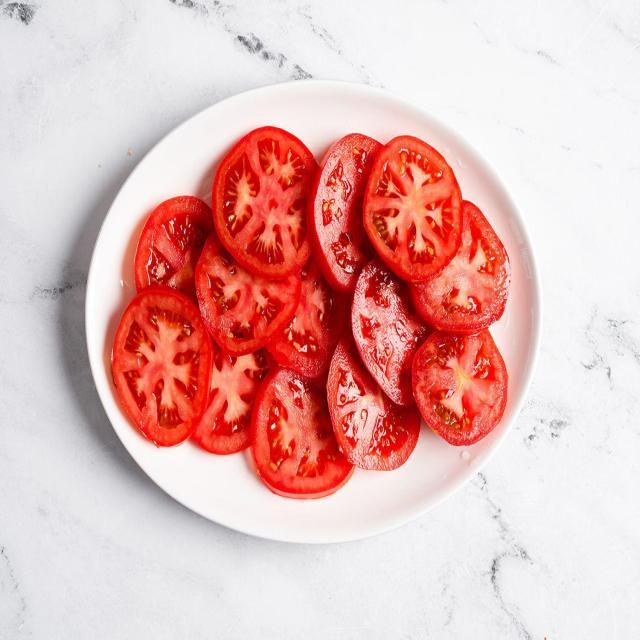Tomato: (212, 124, 319, 282), (111, 286, 209, 447), (365, 134, 465, 280), (251, 365, 350, 497), (416, 329, 508, 447), (314, 123, 376, 279), (352, 268, 419, 387), (448, 200, 508, 326)
